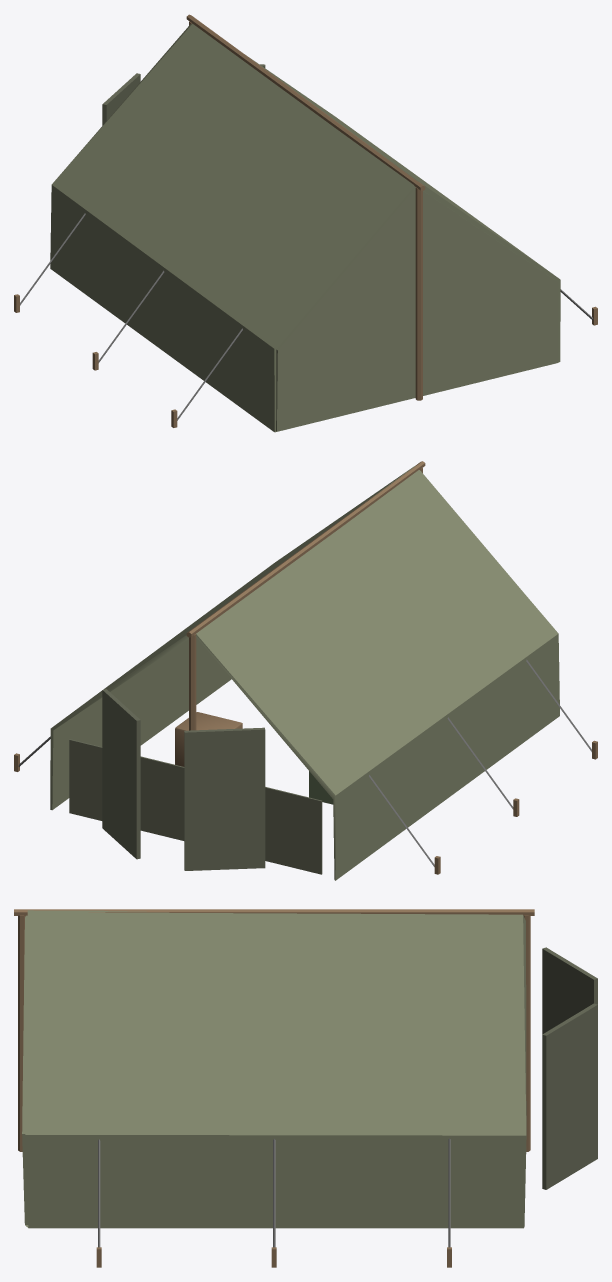
File: ZR_Tent_Military.fbx
3 renders of one model, top to bottom at view 1: azimuth 30°, elevation 25°; view 2: azimuth 150°, elevation 25°; view 3: azimuth 270°, elevation 25°, orthographic. The views are drawn at different scales.
Parts seen in each view (by area): view 1: ZR_Tent_Military; view 2: ZR_Tent_Military; view 3: ZR_Tent_Military.
Boxes of the visible parts, x1,y1,x2,y2 form: ZR_Tent_Military: (14, 14, 597, 432); ZR_Tent_Military: (14, 461, 597, 880); ZR_Tent_Military: (14, 909, 597, 1267).
Size of the model in its own units: 5.45 by 2.67 by 5.83.
